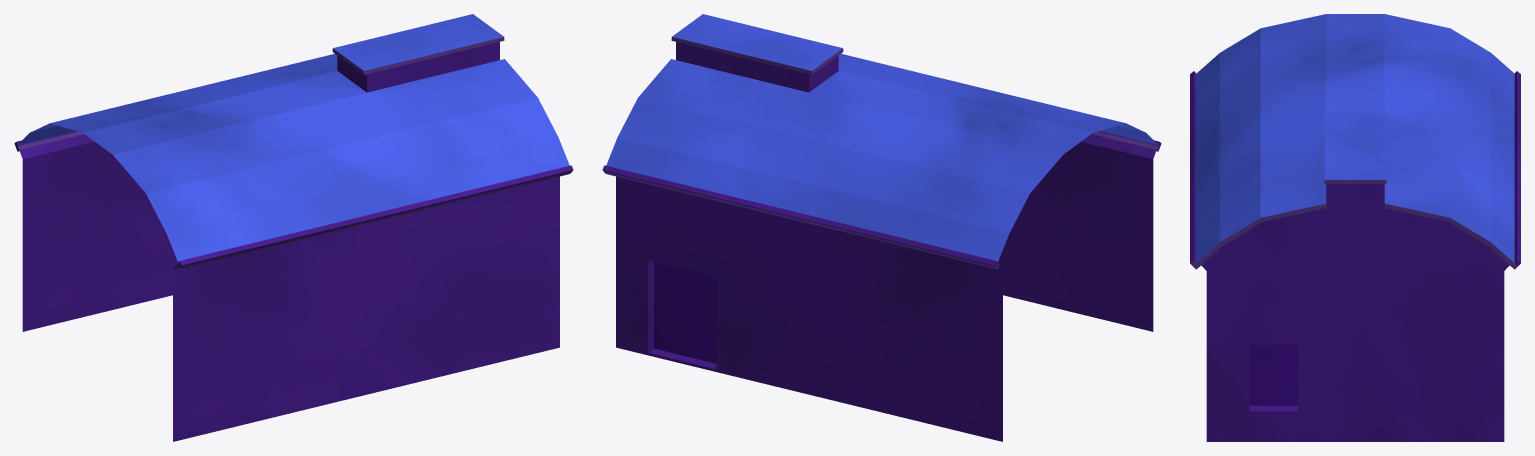
Rendered from SM_Building_A.fbx.
3 renders of one model, left to right at view 1: azimuth 30°, elevation 25°; view 2: azimuth 150°, elevation 25°; view 3: azimuth 270°, elevation 25°, orthographic.
Visible parts, largest first — view 1: building._A; view 2: building._A; view 3: building._A.
Part boxes in pixels (x1,y1,x2,y2): building._A: (14, 14, 573, 441); building._A: (602, 14, 1161, 441); building._A: (1190, 14, 1520, 441).
Bounding box in the file's own units: 17.86 × 11.59 × 13.17.
